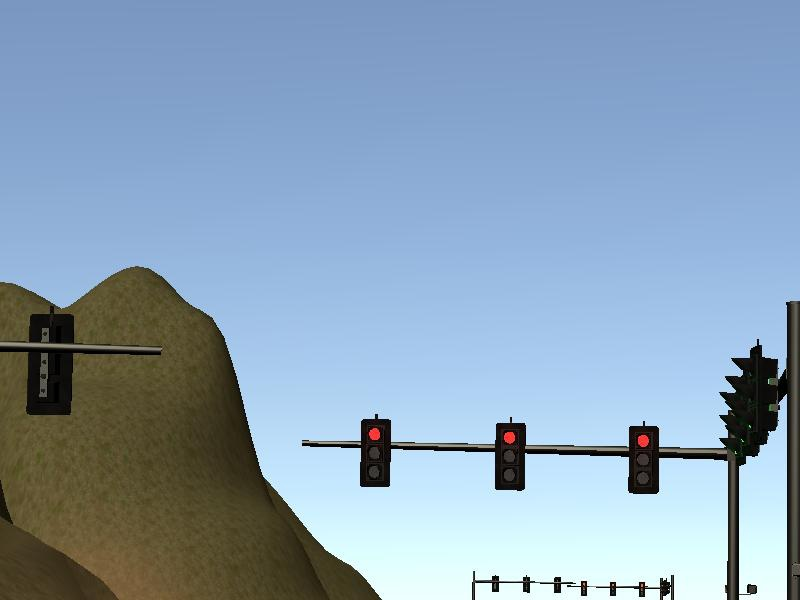red_light: (495, 423, 525, 490), (630, 427, 660, 490), (362, 419, 389, 484)
